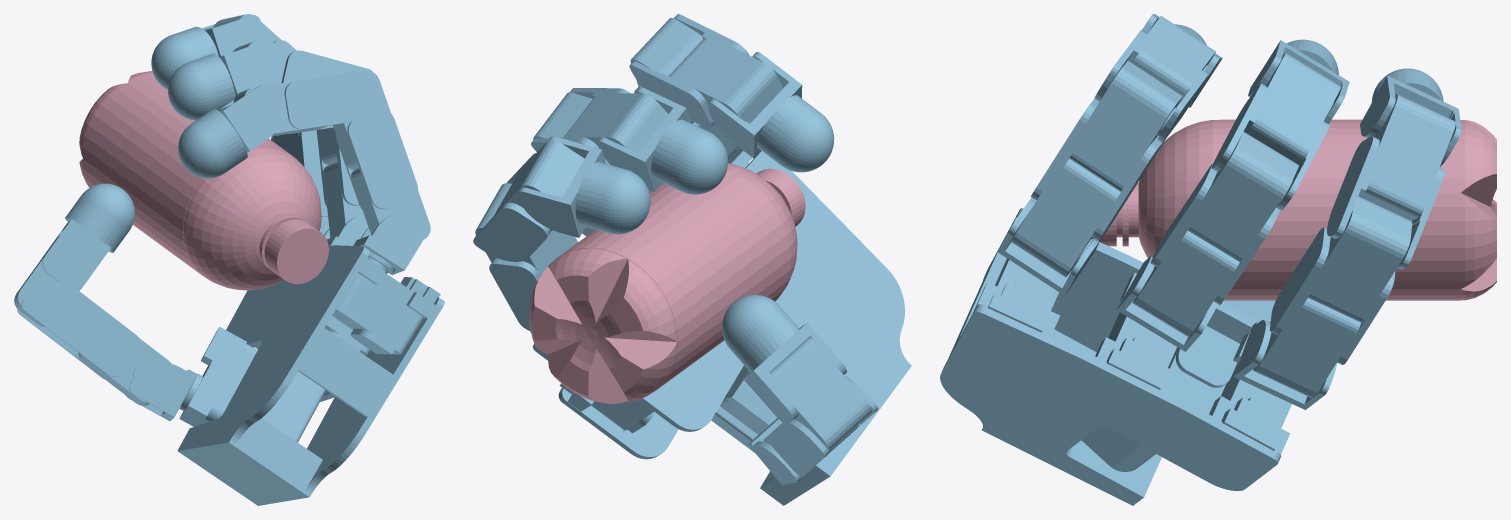
Rendered from Allegro_contactdb+water_bottle_mesh.glb.
The picture shows the model from 3 angles, left to right: view 1: azimuth 30°, elevation 25°; view 2: azimuth 150°, elevation 25°; view 3: azimuth 270°, elevation 25°; orthographic projection. The views are drawn at different scales.
Parts seen in each view (by area): view 1: world; view 2: world; view 3: world.
Part boxes in pixels (box(x1,y1,x2,y2)): world: box(14, 14, 444, 505); world: box(473, 14, 911, 505); world: box(940, 14, 1496, 505).
Bounding box in the file's own units: 0.1523 × 0.1842 × 0.1851.
